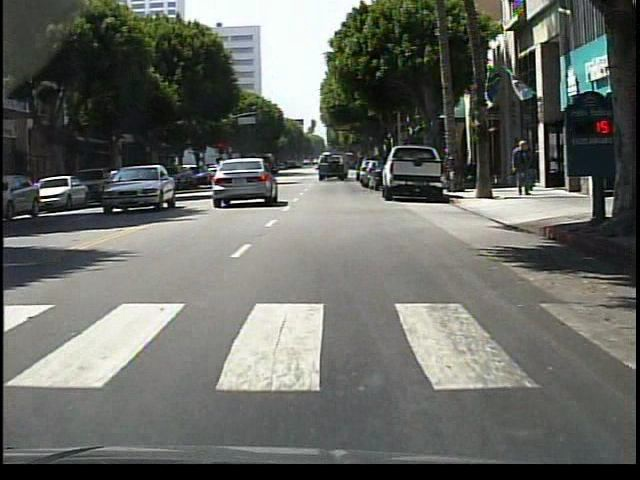person: (513, 140, 535, 199), (521, 147, 537, 195), (217, 158, 231, 202)
